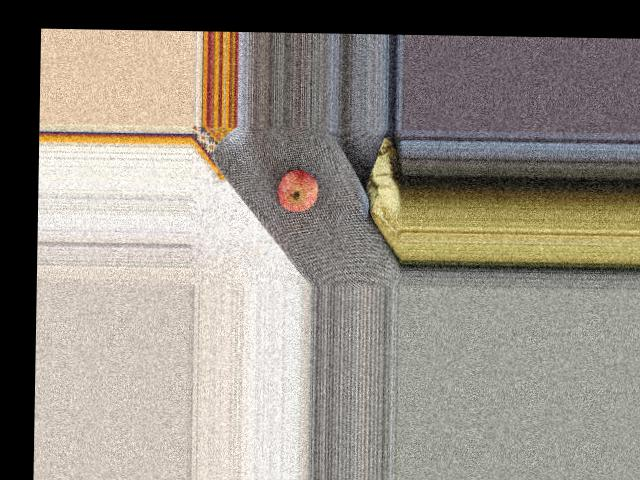apple: (275, 164, 324, 209)
